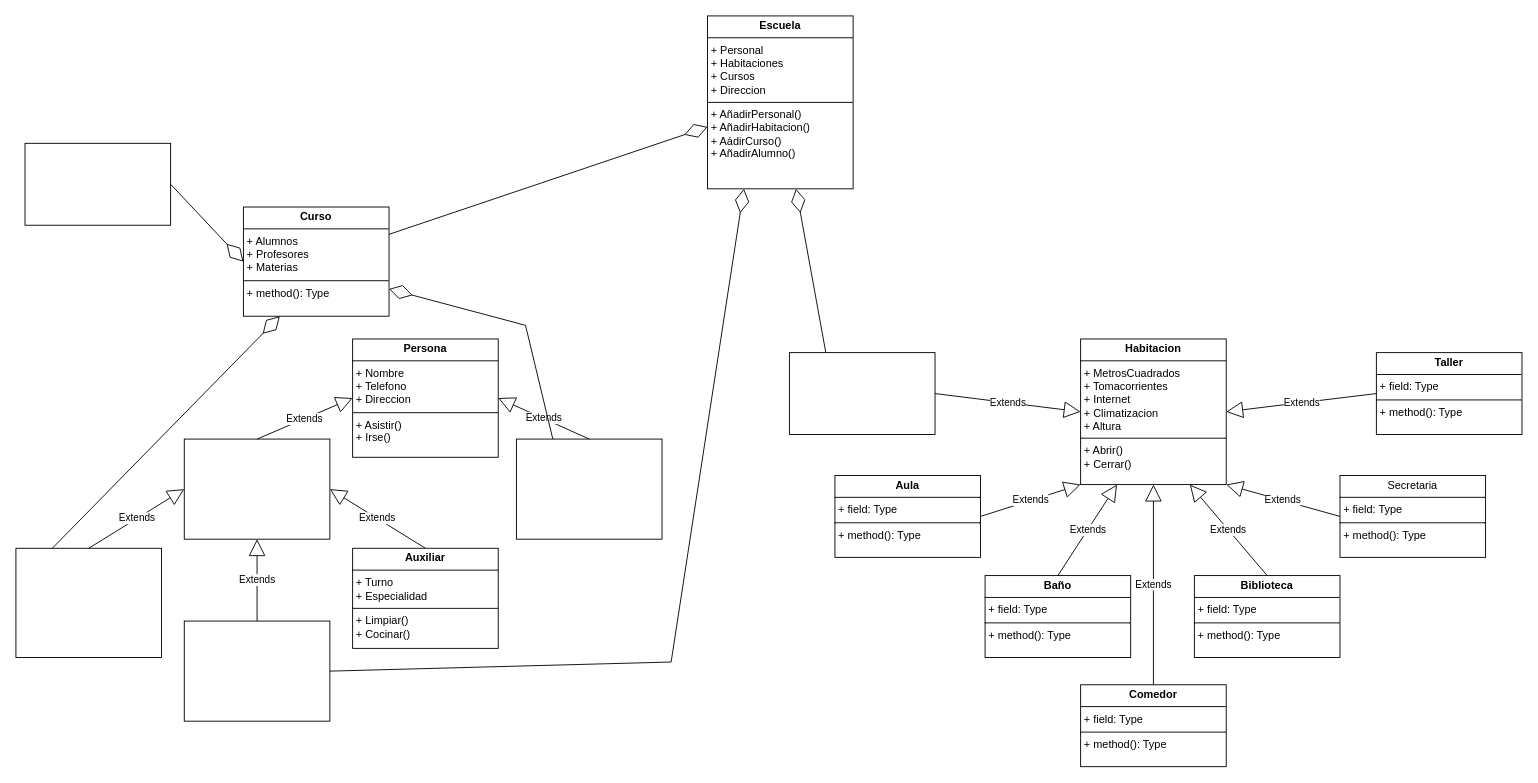
This 1538x783 diagram has some shape labels left out. Each missing label, with the box of its shape:
Alumno + Curso + Promedio + Estudiar() + DarPrueba: (516, 438, 662, 539)
Directivo + Puesto + Vision + HacerReunion() + DarOrden(): (183, 620, 330, 721)
Materia + Temas + method(): Type: (24, 142, 171, 225)
Oficina + Directivo + LlamarAlumno(): (789, 352, 935, 435)
Personal + Antiguedad + Salario + Cobrar() + PedirLicencia(): (183, 438, 330, 539)
Profesor + Puntos + Conocimientos + Cursos + DictarClase() + TomarAsistencia(): (15, 547, 162, 657)
